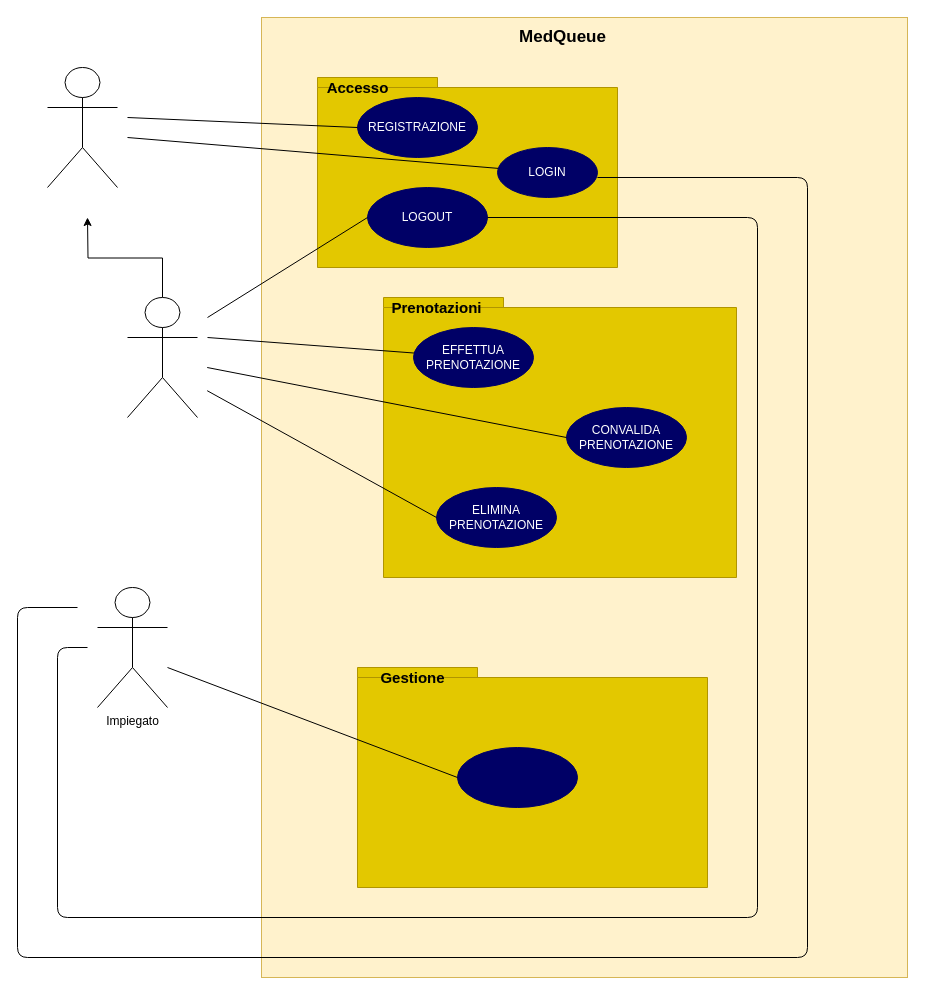
This 925x995 diagram has some shape labels left out. The centre of each missing label's shape, as x and y in pixels:
"ACCETTA PRENOTAZIONE" belongs at point 517,777.
"Utente" belongs at point 82,127.
"Utente Registrato" belongs at point 162,357.
